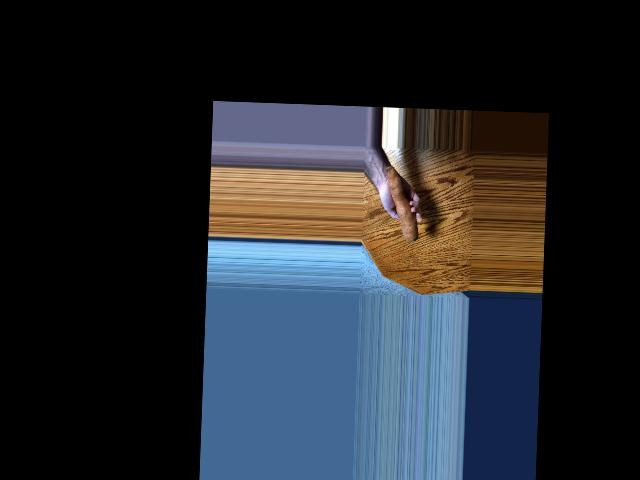sweet_potato: (380, 164, 422, 243)
